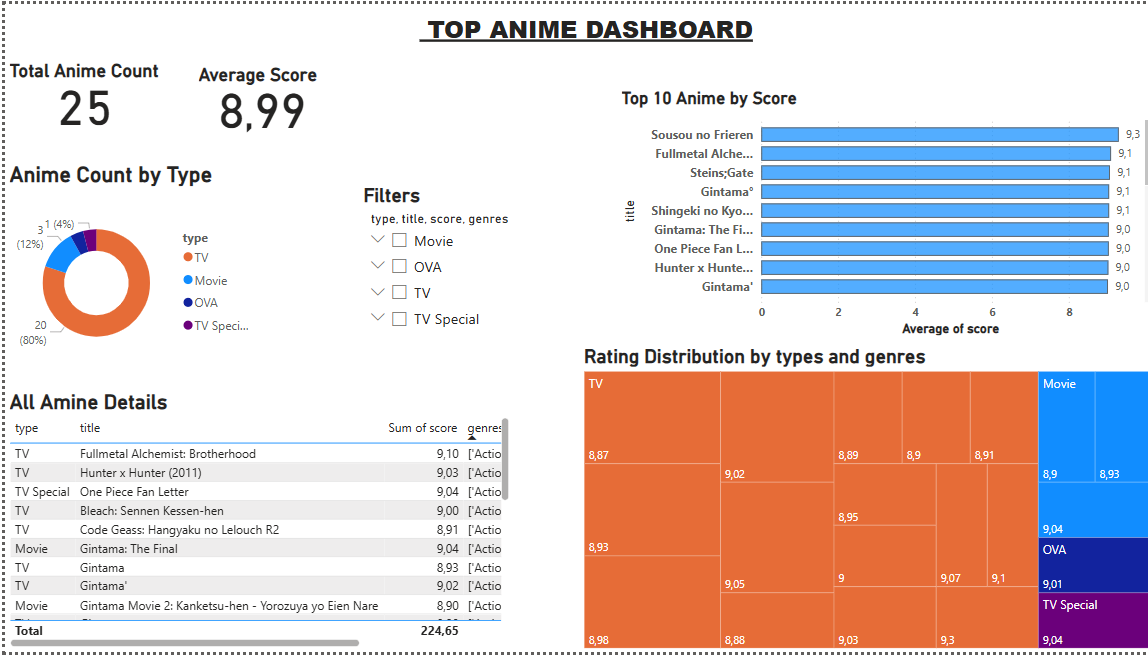

This screenshot's page, from the dashboard's own definition file:
{"tool":"powerbi","page":{"name":"Page 1","canvas":[1280,720],"ordinal":0},"visuals":[{"type":"clusteredBarChart","title":"Top 10 Anime by Score","fields":{"Category":["anime_db anime.title"],"Y":["Avg(anime_db anime.score)"]},"box":[680.3,92.6,599.1,279.7],"z":0},{"type":"donutChart","title":"Anime Count by Type","fields":{"Category":["anime_db anime.type"],"Y":["CountNonNull(anime_db anime.mal_id)"]},"box":[0,175.7,285.4,241.9],"z":1000},{"type":"card","title":"Total Anime Count","fields":{"Values":["CountNonNull(anime_db anime.mal_id)"]},"box":[0,62.4,177.6,90.7],"z":2000},{"type":"card","title":"Average Score","fields":{"Values":["Avg(anime_db anime.score)"]},"box":[209.8,66.1,151.2,86.9],"z":3000},{"type":"tableEx","title":"All Amine Details","fields":{"Values":["anime_db anime.type","anime_db anime.title","Sum(anime_db anime.score)","anime_db anime.genres"]},"box":[0,429,565,291],"z":4000},{"type":"treemap","title":"Rating Distribution by types and genres","fields":{"Values":["CountNonNull(anime_db anime.genres)"],"Group":["anime_db anime.type"],"Details":["anime_db anime.score"]},"box":[638.7,378,640.6,342],"z":5000},{"type":"slicer","title":"Filters","fields":{"Values":["anime_db anime.type","anime_db anime.title","anime_db anime.score","anime_db anime.genres"]},"box":[393.1,200.3,245.7,172],"z":6000},{"type":"textbox","box":[393.1,3.8,481.9,58.6],"z":7000}]}

Visuals, with their boxes in screenshot pixels (x1, y1, x2, y2), scaled from the page's 1280x720 canvas onto the 1148x663 screenshot:
"Top 10 Anime by Score" clusteredBarChart: BBox(610, 85, 1147, 343)
"Anime Count by Type" donutChart: BBox(0, 162, 256, 385)
"Total Anime Count" card: BBox(0, 57, 159, 141)
"Average Score" card: BBox(188, 61, 324, 141)
"All Amine Details" tableEx: BBox(0, 395, 507, 662)
"Rating Distribution by types and genres" treemap: BBox(573, 348, 1147, 662)
"Filters" slicer: BBox(353, 184, 573, 343)
textbox: BBox(353, 3, 785, 57)
